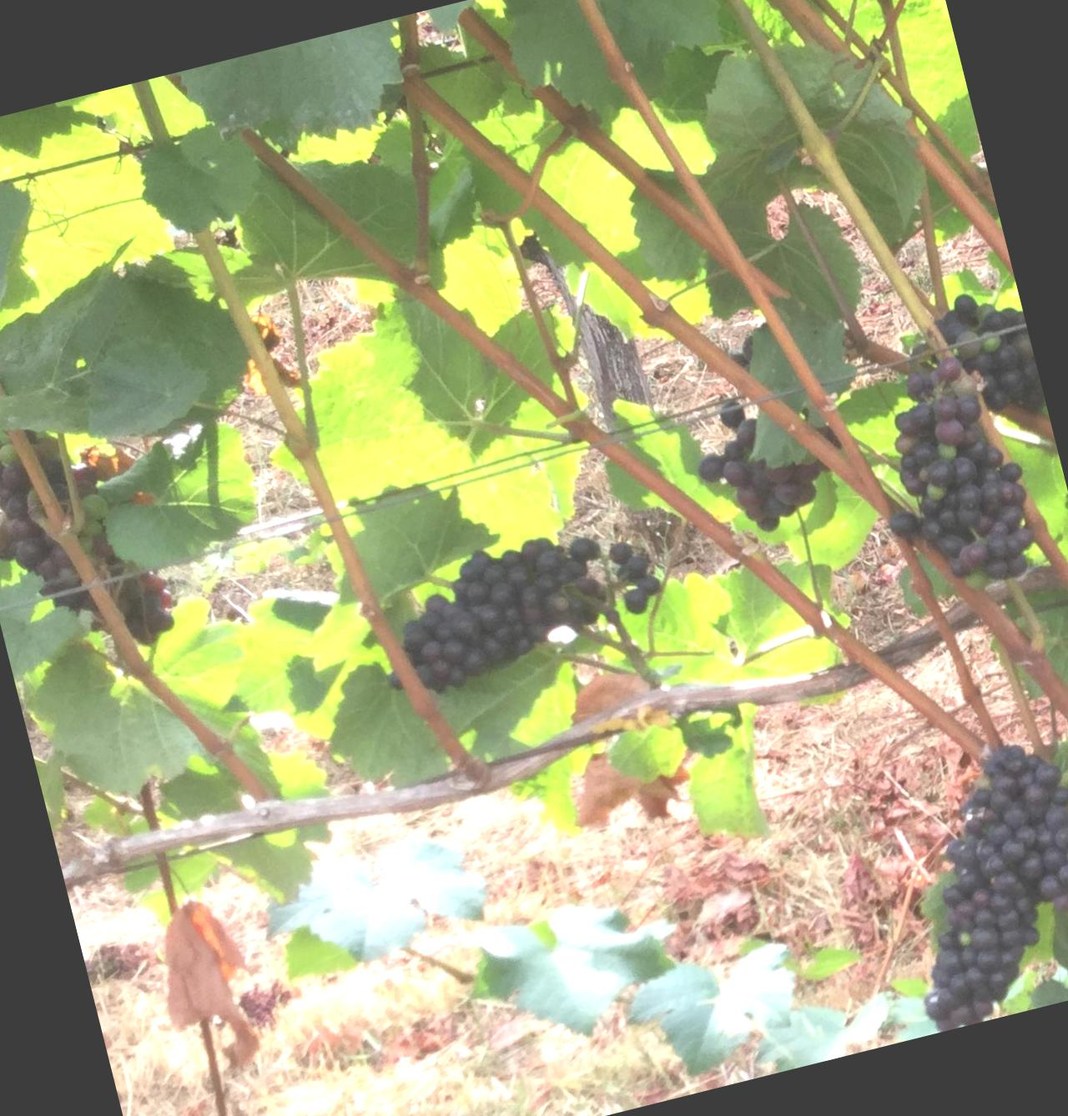Grape Ripe: (844, 716, 1068, 1032), (373, 510, 671, 708), (846, 337, 1035, 596), (0, 410, 169, 646), (669, 392, 840, 560)
